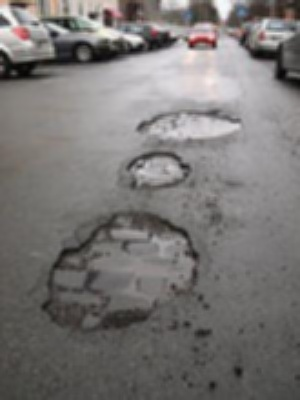pothole: (33, 206, 202, 338), (131, 107, 244, 140), (122, 152, 192, 190)
